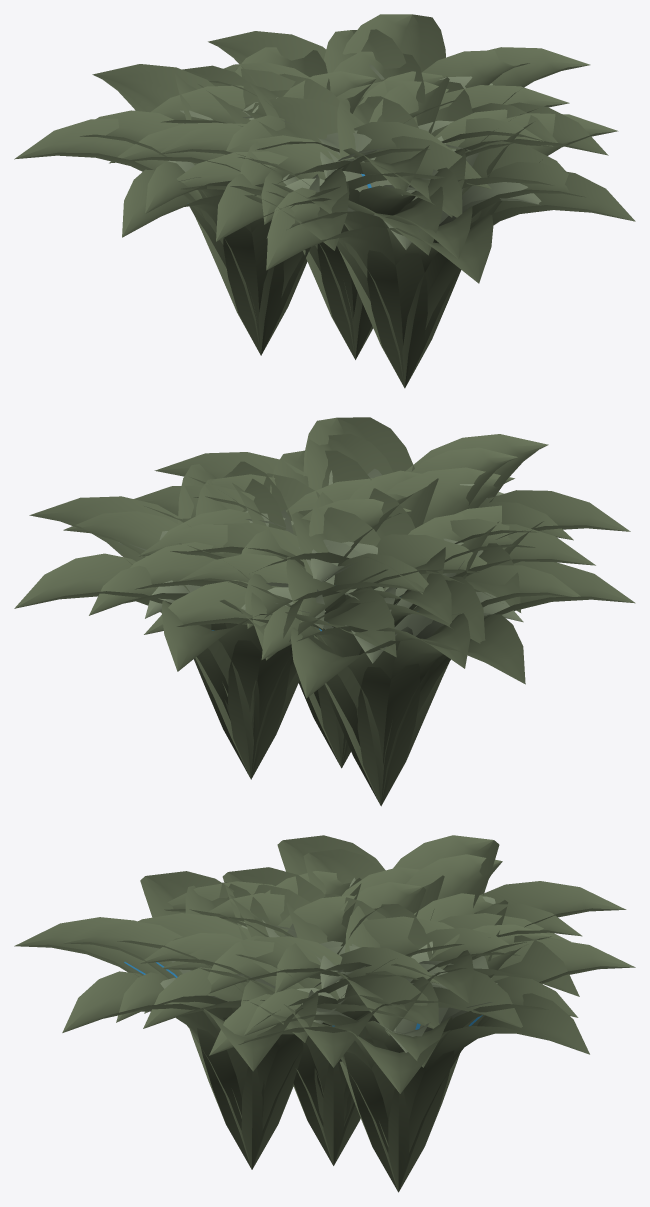
File: blue-sheaths.glb
3 views of the same model, one above another, from view 1: azimuth 30°, elevation 25°; view 2: azimuth 150°, elevation 25°; view 3: azimuth 270°, elevation 25° (orthographic). The views are drawn at different scales.
Parts seen in each view (by area): view 1: LAND05 blue-sheaths; view 2: LAND05 blue-sheaths; view 3: LAND05 blue-sheaths.
Part boxes in pixels (x1,y1,x2,y2): LAND05 blue-sheaths: (14, 14, 635, 388); LAND05 blue-sheaths: (14, 417, 635, 806); LAND05 blue-sheaths: (14, 835, 635, 1192).
Size of the model in its own units: 3.82 by 1.56 by 3.95.
